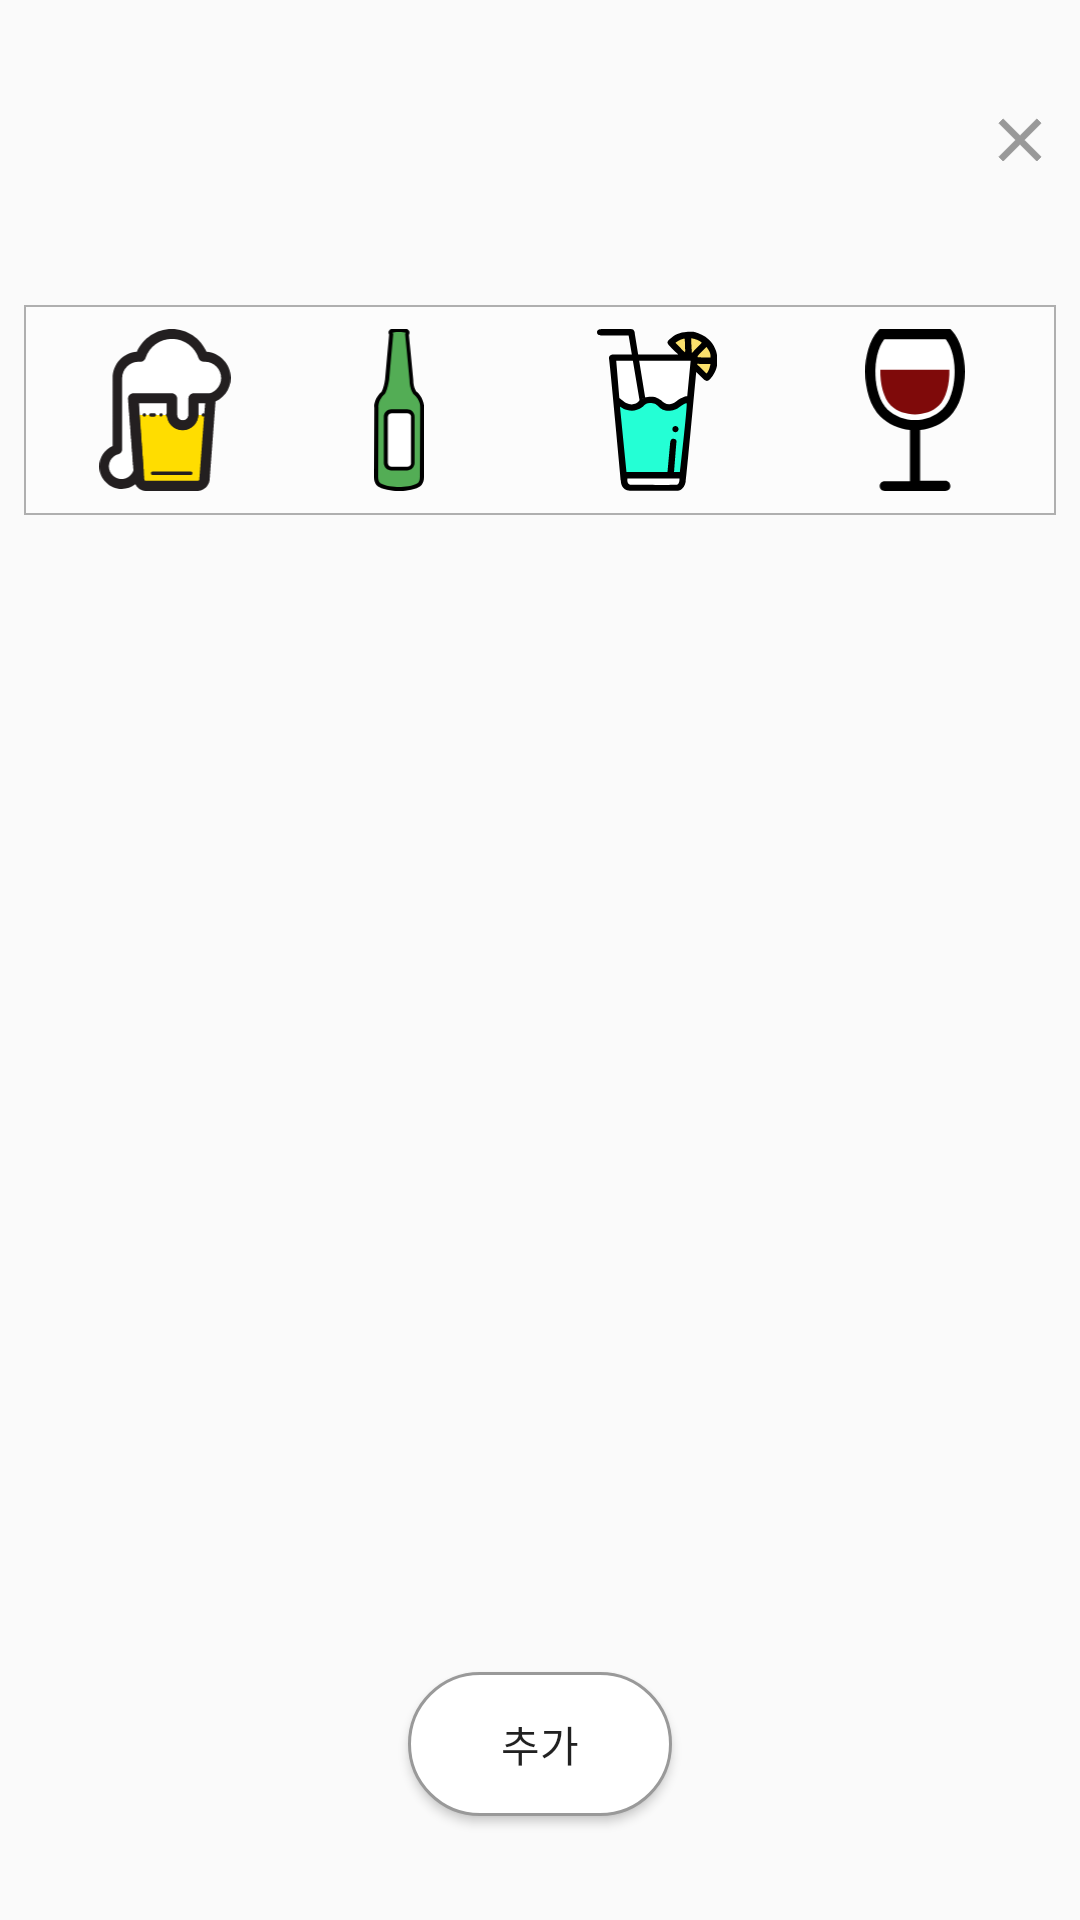

Icon click points for this 1080px x 1920px phone screenshot, format (x=x, y=y):
beer: (x=165, y=410)
cancel: (x=1019, y=140)
cocktail: (x=657, y=410)
soju: (x=399, y=410)
wine: (x=915, y=410)
